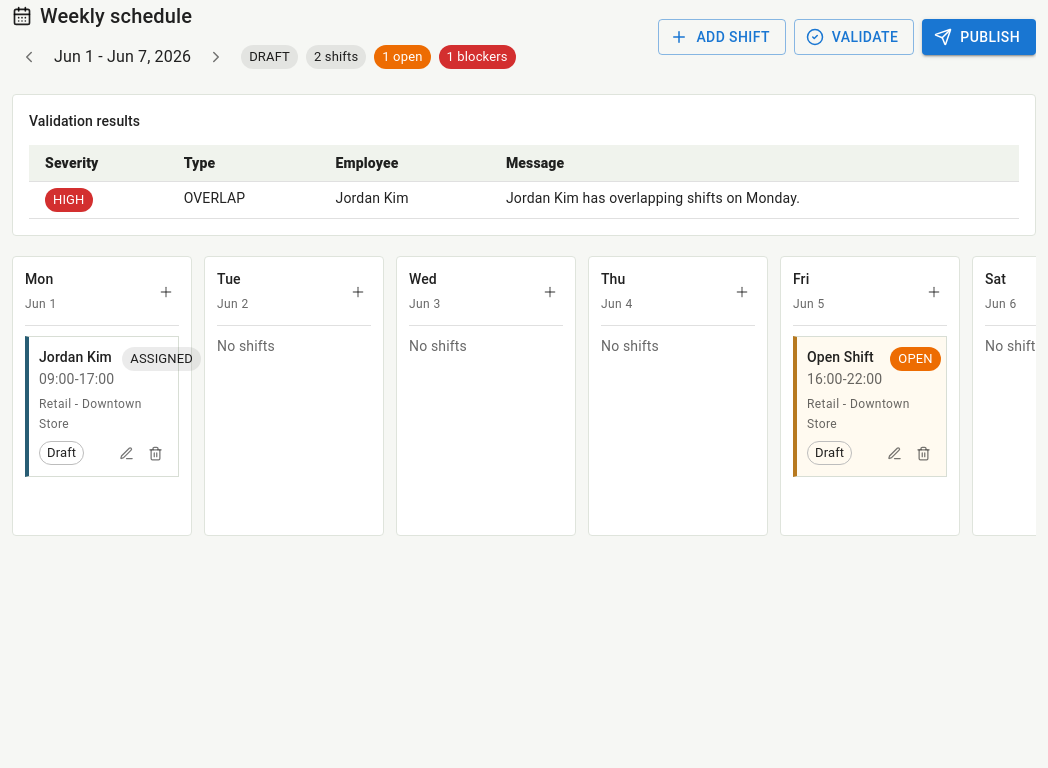
it: SchedulingPanel › shows publish validation errors from the API
Click the button "Publish" at (979, 37), box [922,19,1036,55]
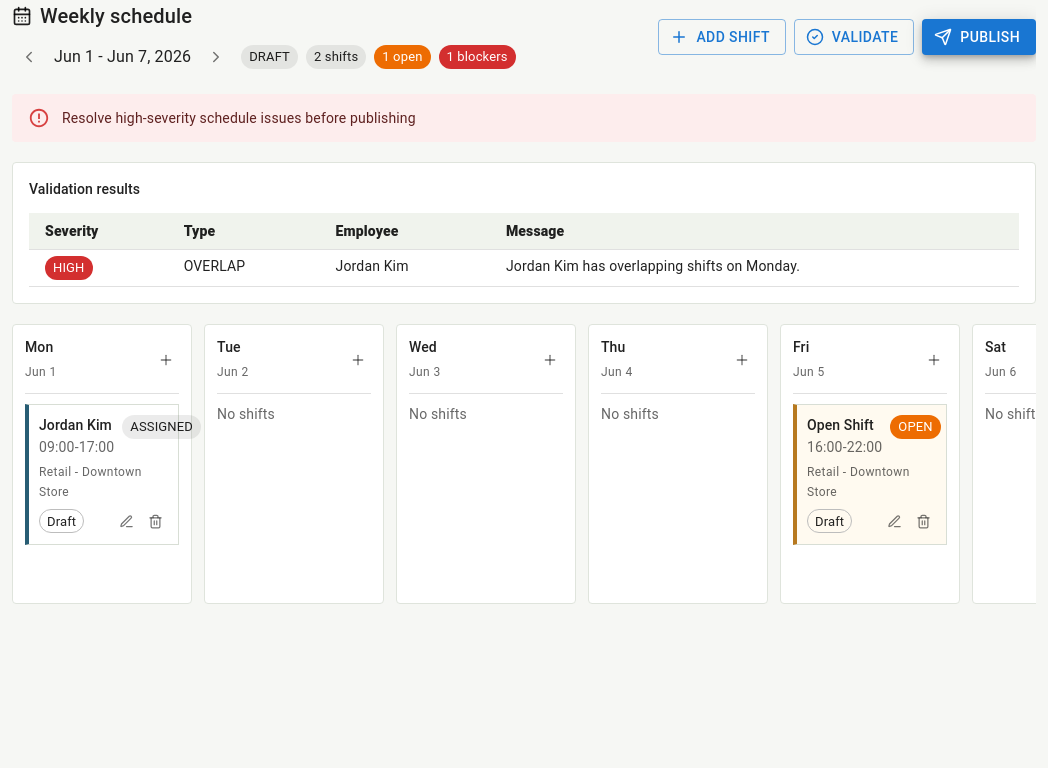
Expected: the text "Resolve high-severity schedule issues before publishing" is shown, [62,110,416,126]
